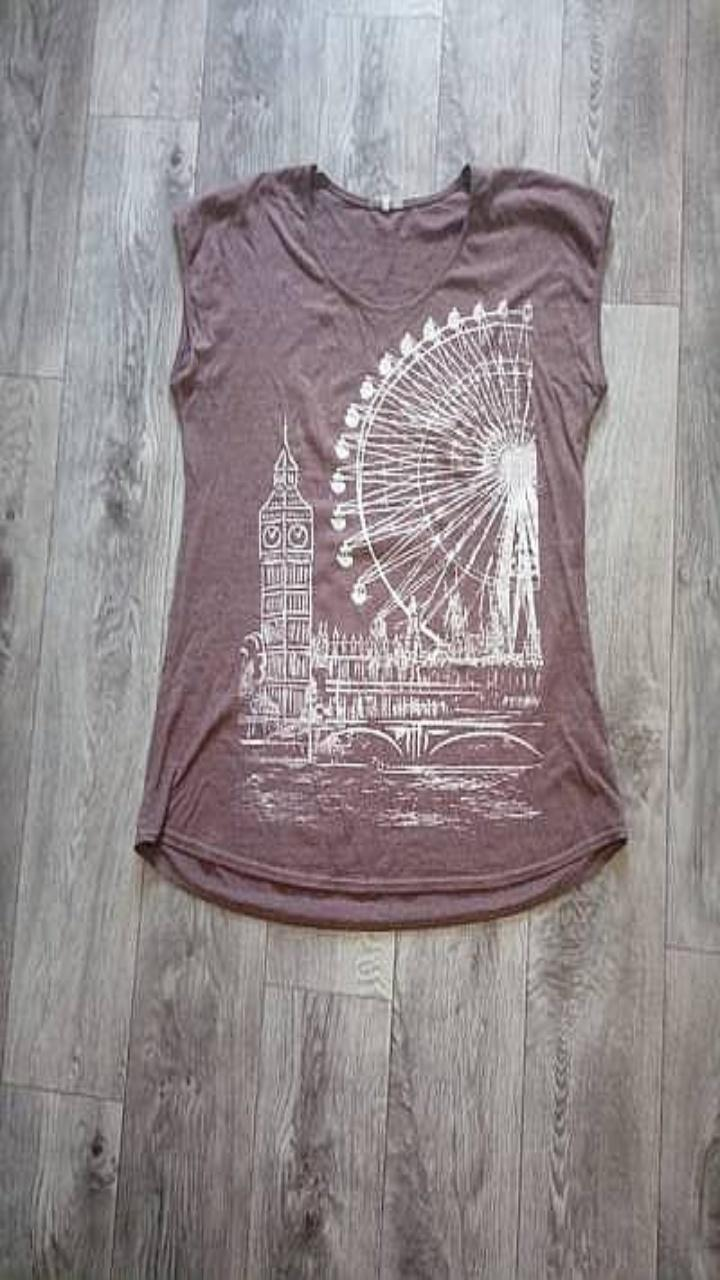T-Shirt: (135, 163, 627, 928)
